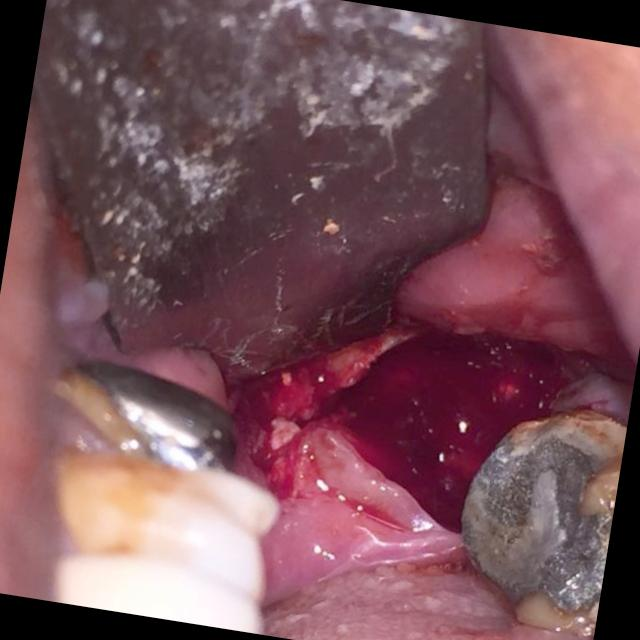Cancer: (199, 288, 621, 640)
